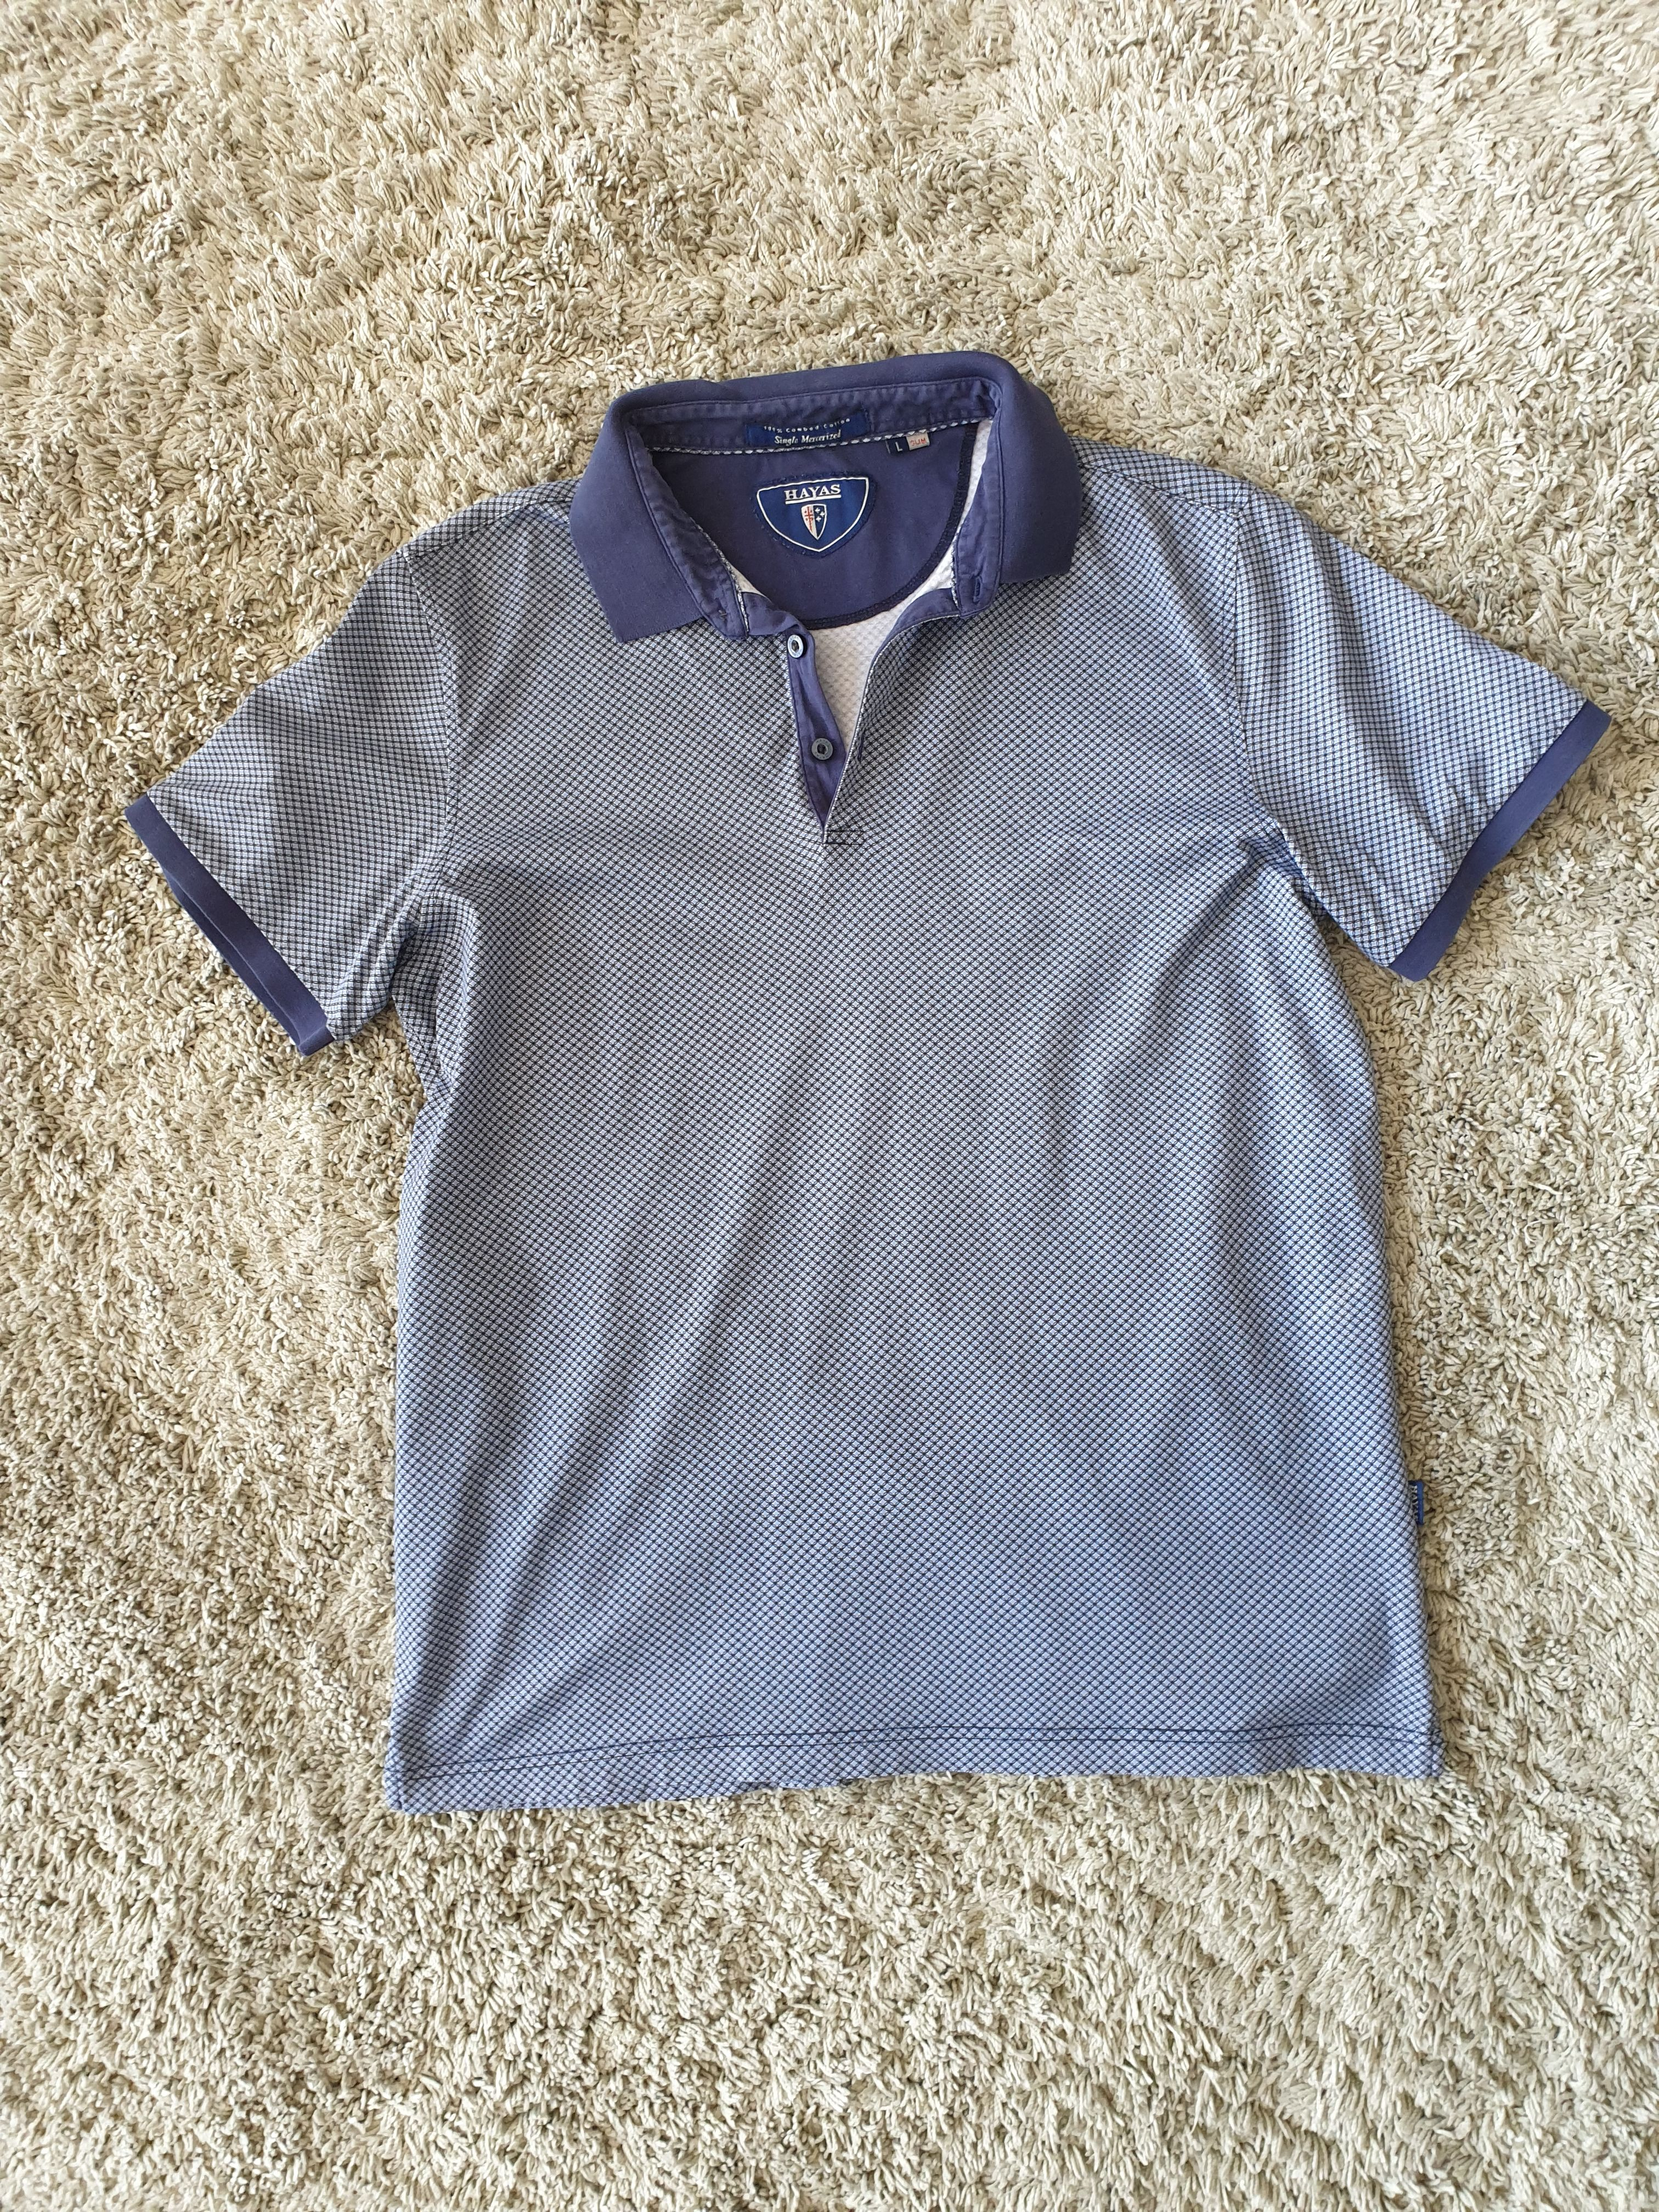clothes: (103, 364, 1617, 1804)
